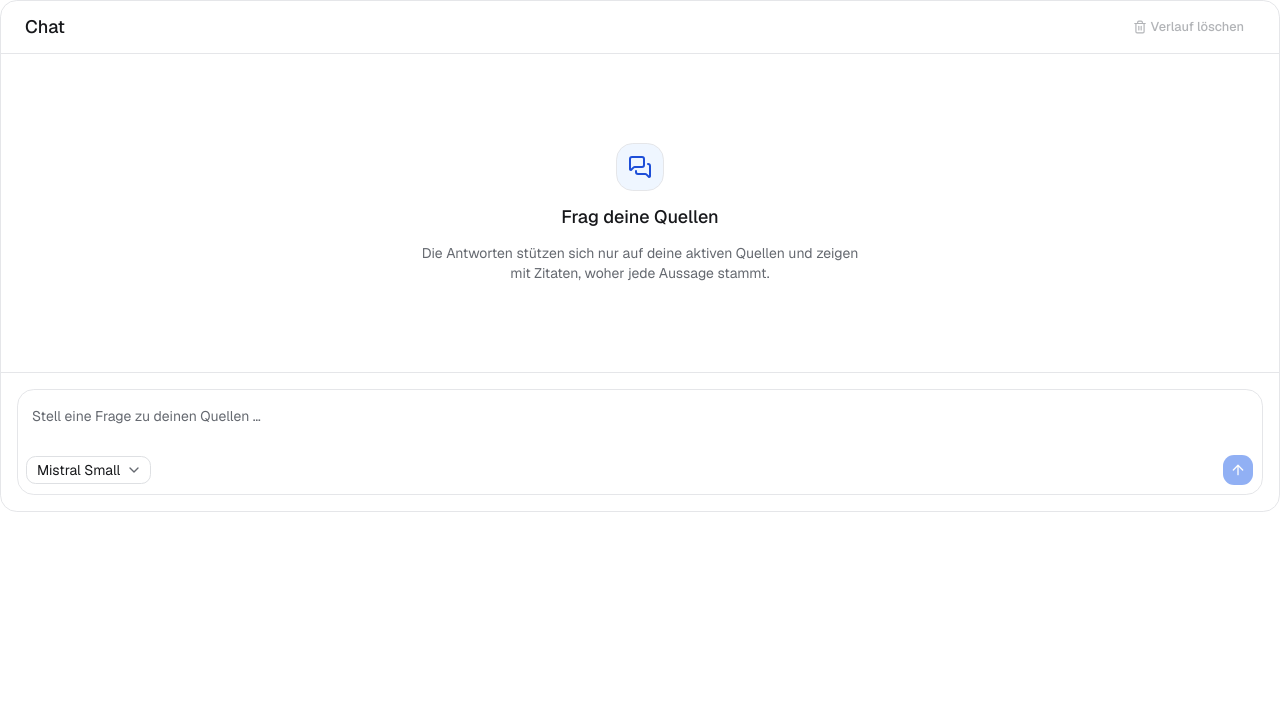
Test: ChatPanel › streaming › shows a finished answer exactly once while the history is refetched
Expected: the dropdown named "Modell" reads "Mistral Small", top-left (26, 456), bottom-right (151, 484)
Type "Worum geht es?" into the text box labelled "Frage" at x=640, y=422, box top-left (26, 398), bottom-right (1254, 446)
Then press Enter
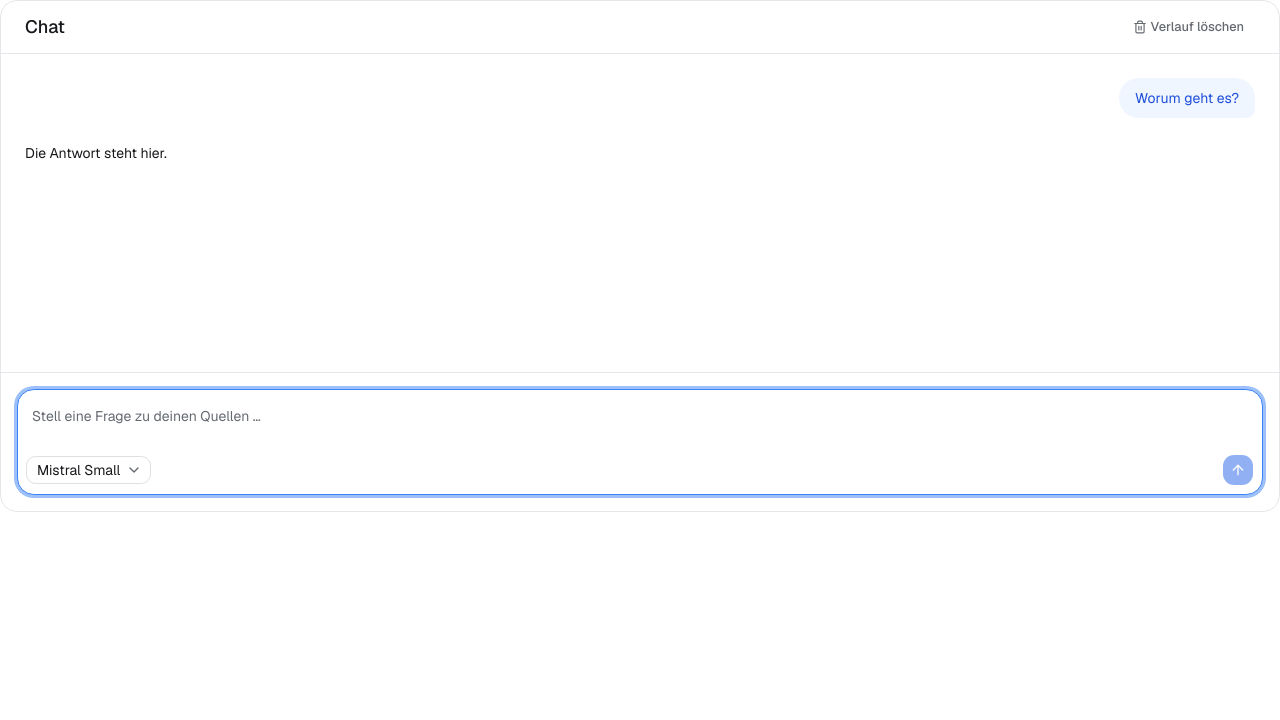
Result: the number of list items is 2 at top-left (1119, 78), bottom-right (1255, 118); top-left (24, 142), bottom-right (167, 163)
Result: the text "Die Antwort steht hier." is shown once at top-left (25, 144), bottom-right (167, 162)
Result: the text "Worum geht es?" is shown once at top-left (1119, 78), bottom-right (1255, 118)
